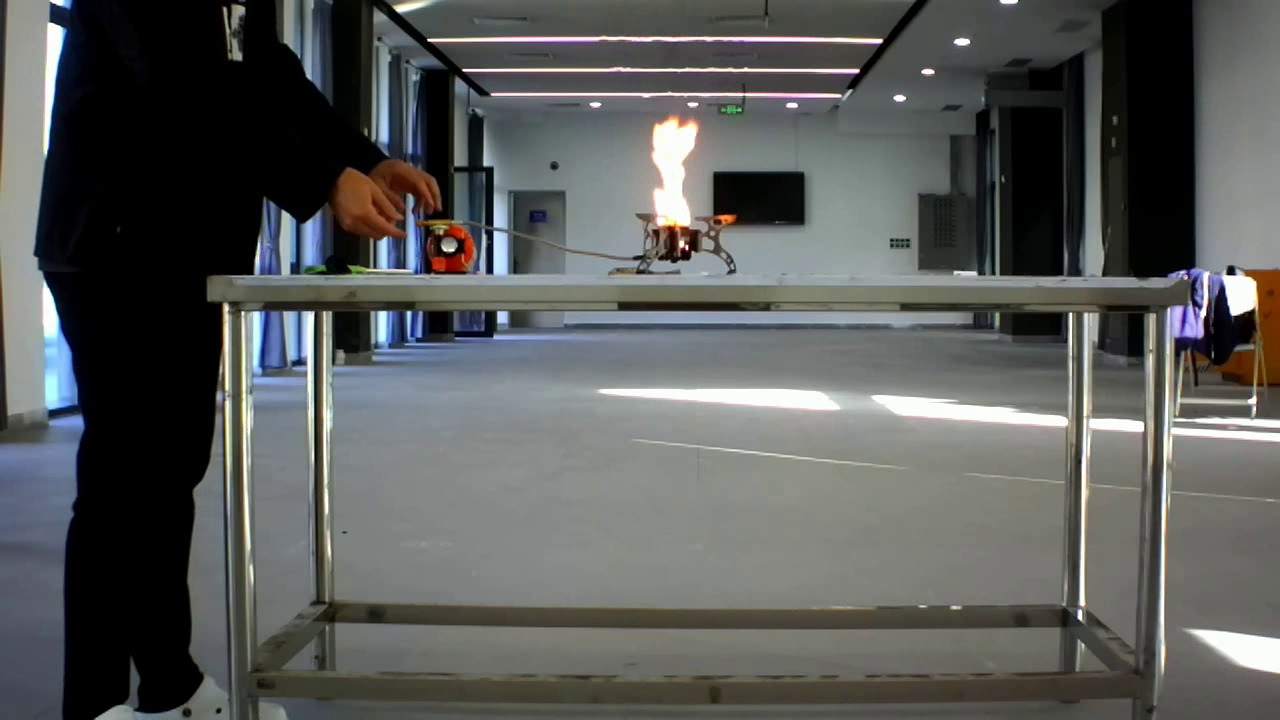Fire: (631, 108, 740, 262)
